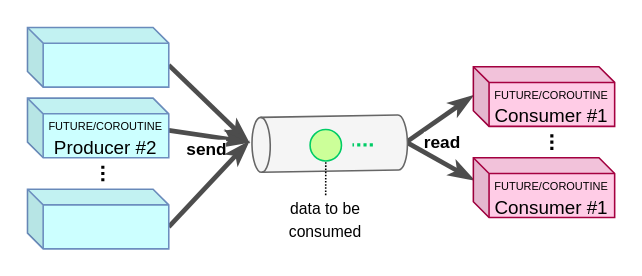
This 642x276 diagram has some shape labels left out. Here are the shapes that lost their labels. From the top down, the centre of each, then its label:
At [97,56]: "FUTURE/COROUTINE Producer #1".
At [97,218]: "FUTURE/COROUTINE Producer #3".
